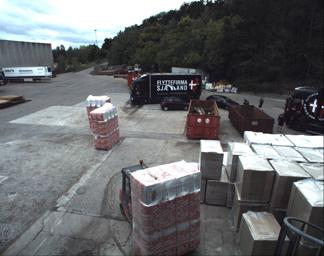rockwool_batts: (135, 157, 200, 255), (91, 102, 119, 149), (86, 92, 109, 112)
